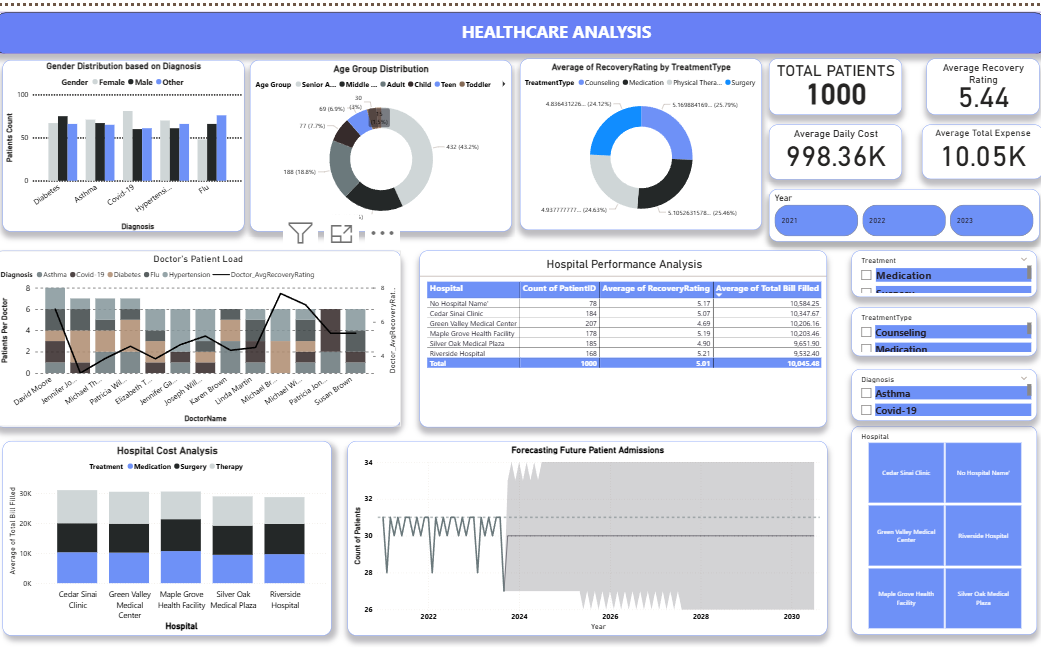

The page's visual inventory and layout, read from the dashboard file:
{"tool":"powerbi","page":{"name":"Dashboard","canvas":[2000,1920],"ordinal":11},"visuals":[{"type":"shape","box":[0,10.4,2000.2,79.7],"z":0},{"type":"textbox","box":[0,20.3,1600.1,59.6],"z":1000},{"type":"clusteredColumnChart","title":"Gender Distribution based on Diagnosis","fields":{"Category":["Sheet1.Diagnosis"],"Y":["Sheet1.PatientID"],"Series":["Sheet1.Gender"]},"box":[14.5,101.7,460.7,327],"z":2000},{"type":"donutChart","title":"Age Group Distribution","fields":{"Category":["Sheet1.Age Group"],"Y":["Sheet1.PatientID"]},"box":[486.9,101.7,498.5,327],"z":3000},{"type":"card","title":"TOTAL PATIENTS","fields":{"Values":["Sheet1.PatientID"]},"box":[1473.2,101.4,253.5,107],"z":4000},{"type":"card","title":"Average Daily Cost","fields":{"Values":["Sheet1.DailyCost"]},"box":[1473.9,224.6,253.6,104.3],"z":5000},{"type":"card","title":"Average Total Expense","fields":{"Values":["Sheet1.Total Bill Filled"]},"box":[1766.2,225.4,231,104.2],"z":6000},{"type":"card","title":"Average Recovery Rating","fields":{"Values":["Sheet1 (2).RecoveryRating"]},"box":[1773.2,101.4,215.5,107],"z":7000},{"type":"donutChart","fields":{"Category":["Sheet1.TreatmentType"],"Y":["Sheet1.RecoveryRating"]},"box":[1000,101.4,460.6,326.8],"z":8000},{"type":"advancedSlicerVisual","fields":{"Values":["Sheet1.AdmissionDate.Variation.Date Hierarchy.Year"]},"box":[1473.2,349.3,515.5,100],"z":9000},{"type":"lineStackedColumnComboChart","title":"Doctor''s Patient Load","fields":{"Category":["Sheet1.DoctorName"],"Y":["Sheet1.PatientsPerDoctor"],"Y2":["Sheet1.Doctor_AvgRecoveryRating"],"Series":["Sheet1.Diagnosis"]},"box":[0,464.3,773.5,336.7],"z":10000},{"type":"tableEx","title":"Hospital Performance Analysis ","fields":{"Values":["Sheet1.Hospital","Sheet1.PatientID","Sheet1.RecoveryRating","Sheet1.Total Bill Filled"]},"box":[809.9,464.8,776.1,336.6],"z":11000},{"type":"slicer","fields":{"Values":["Sheet1.Hospital"]},"box":[1632.4,801.4,353.5,397.2],"z":12000},{"type":"slicer","fields":{"Values":["Sheet1.Treatment"]},"box":[1632.4,464.8,353.5,88.7],"z":13000},{"type":"slicer","fields":{"Values":["Sheet1.TreatmentType"]},"box":[1632.4,574.6,353.5,93],"z":14000},{"type":"slicer","fields":{"Values":["Sheet1.Diagnosis"]},"box":[1632.4,690.1,353.5,98.6],"z":15000},{"type":"lineStackedColumnComboChart","title":"Hospital Cost Analysis","fields":{"Category":["Sheet1.Hospital"],"Series":["Sheet1.Treatment"],"Y":["Sheet1.Total Bill Filled"]},"box":[14.1,828.2,626.8,370.4],"z":16000},{"type":"lineChart","title":"Forecasting Future Patient Admissions","fields":{"Y":["Sheet1.PatientName"],"Category":["Sheet1.AdmissionDate.Variation.Date Hierarchy.Year","Sheet1.AdmissionDate.Variation.Date Hierarchy.Quarter","Sheet1.AdmissionDate.Variation.Date Hierarchy.Month"]},"box":[671.8,828.2,914.1,370.4],"z":17000}]}

Visuals, with their boxes on the page's 2000x1920 design canvas (x1, y1, x2, y2). These are canvas units, not pixel positions in the 1041x648 screenshot, which may show the page scaled, cropped or inside an application window:
shape: box(0, 10, 2000, 90)
textbox: box(0, 20, 1600, 80)
"Gender Distribution based on Diagnosis" clusteredColumnChart: box(14, 102, 475, 429)
"Age Group Distribution" donutChart: box(487, 102, 985, 429)
"TOTAL PATIENTS" card: box(1473, 101, 1727, 208)
"Average Daily Cost" card: box(1474, 225, 1728, 329)
"Average Total Expense" card: box(1766, 225, 1997, 330)
"Average Recovery Rating" card: box(1773, 101, 1989, 208)
donutChart - Sheet1.TreatmentType x Sheet1.RecoveryRating: box(1000, 101, 1461, 428)
advancedSlicerVisual - Sheet1.AdmissionDate.Variation.Date Hierarchy.Year: box(1473, 349, 1989, 449)
"Doctor''s Patient Load" lineStackedColumnComboChart: box(0, 464, 774, 801)
"Hospital Performance Analysis " tableEx: box(810, 465, 1586, 801)
slicer - Sheet1.Hospital: box(1632, 801, 1986, 1199)
slicer - Sheet1.Treatment: box(1632, 465, 1986, 554)
slicer - Sheet1.TreatmentType: box(1632, 575, 1986, 668)
slicer - Sheet1.Diagnosis: box(1632, 690, 1986, 789)
"Hospital Cost Analysis" lineStackedColumnComboChart: box(14, 828, 641, 1199)
"Forecasting Future Patient Admissions" lineChart: box(672, 828, 1586, 1199)
